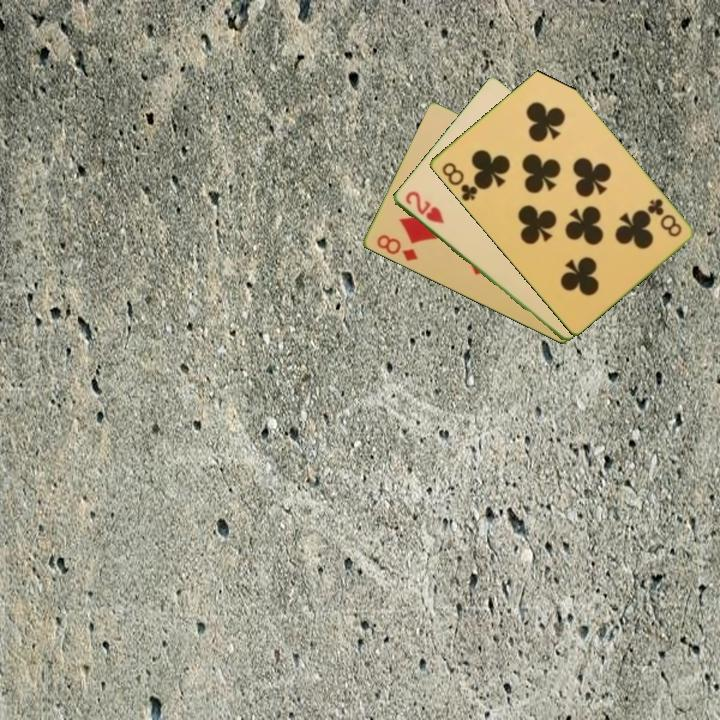2h: (401, 187, 447, 227)
8c: (438, 159, 482, 204), (643, 195, 684, 240)
8d: (373, 231, 420, 265)
